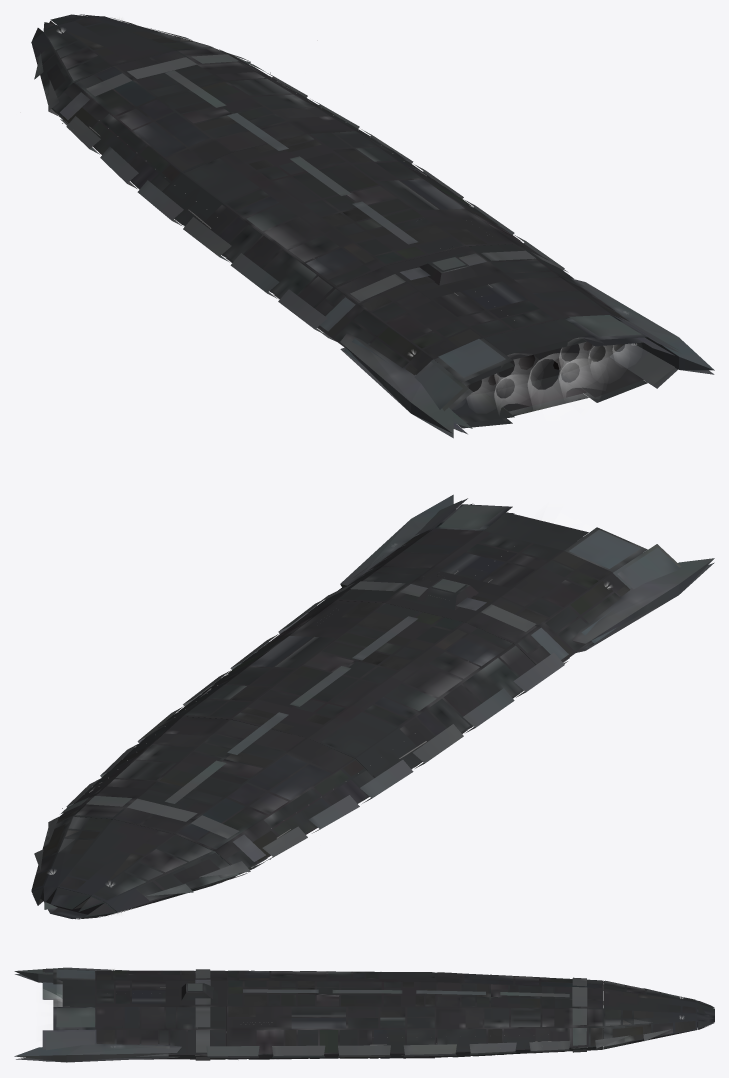
File: Valles_LOD2.glb
3 views of the same model, one above another, from view 1: azimuth 30°, elevation 25°; view 2: azimuth 150°, elevation 25°; view 3: azimuth 270°, elevation 25° (orthographic). The views are drawn at different scales.
Parts seen in each view (by area): view 1: hull, plume; view 2: hull; view 3: hull, plume.
Boxes of the visible parts, left/top/right/bottom form: hull: left=31, top=14, right=714, bottom=438; plume: left=467, top=338, right=636, bottom=407; hull: left=31, top=494, right=714, bottom=919; hull: left=14, top=967, right=714, bottom=1062; plume: left=46, top=991, right=62, bottom=1029.
Size of what is drawn, in the model's own units: 395 by 144 by 1172.
Materials: 5 (4 with a texture image).
